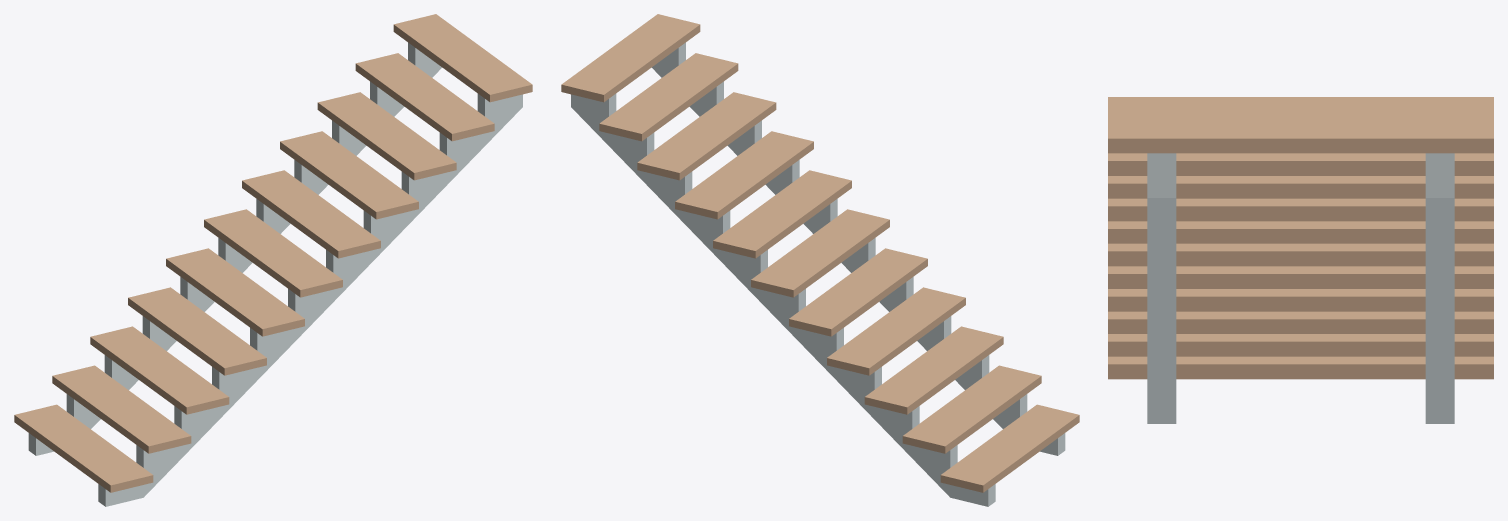
Rendered from stairsOpen-col.glb.
3 views of the same model, side by side, from view 1: azimuth 30°, elevation 25°; view 2: azimuth 150°, elevation 25°; view 3: azimuth 270°, elevation 25° (orthographic). The views are drawn at different scales.
Parts seen in each view (by area): view 1: stairsOpen-col; view 2: stairsOpen-col; view 3: stairsOpen-col.
Boxes of the visible parts, x1,y1,x2,y2 form: stairsOpen-col: [14, 14, 532, 506]; stairsOpen-col: [561, 14, 1079, 506]; stairsOpen-col: [1108, 97, 1493, 423].
Size of the model in its own units: 2.02 by 1.5 by 0.8.
